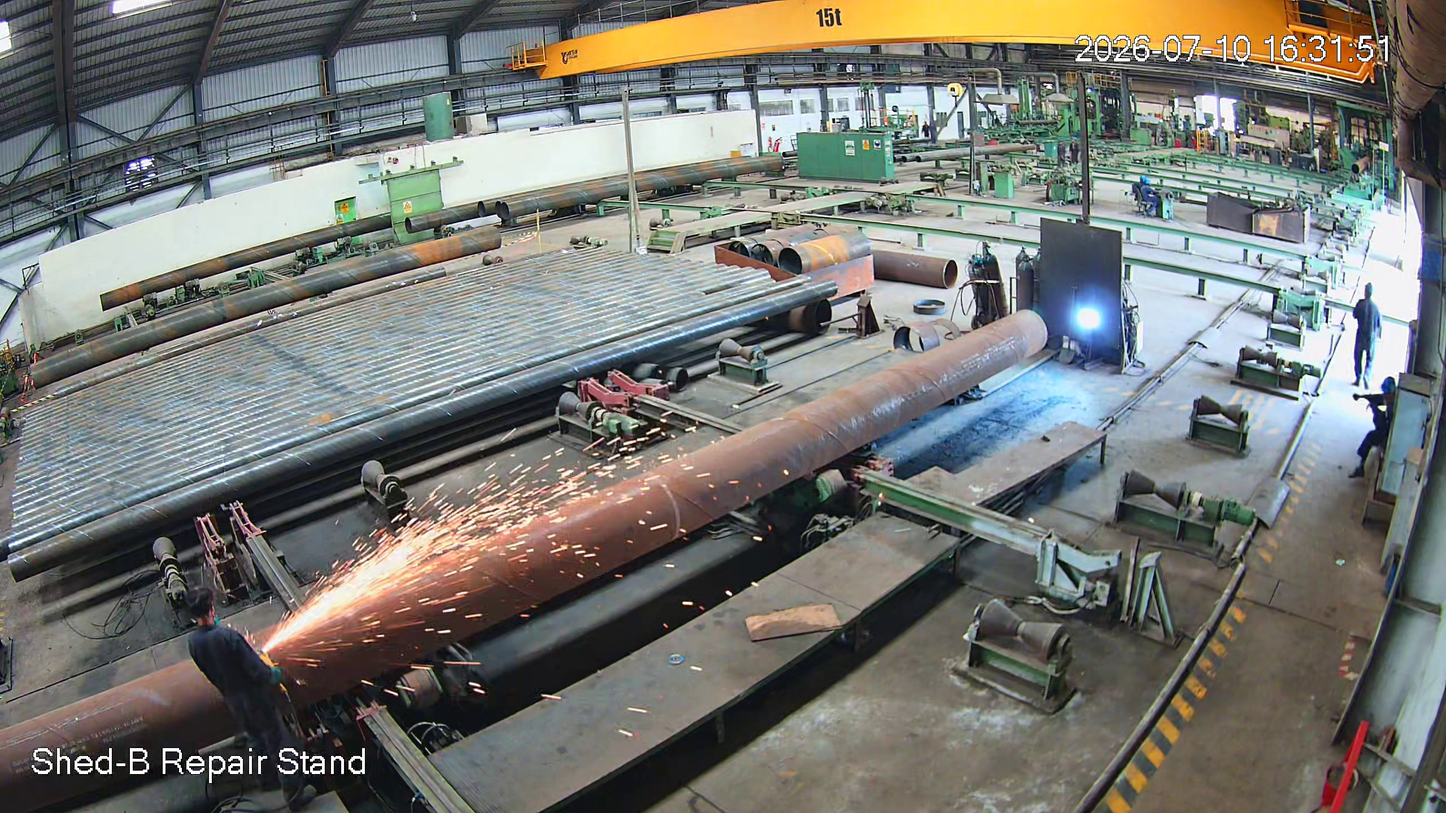Helmet: (176, 582, 233, 646), (1358, 278, 1377, 308)
Person: (181, 588, 325, 813), (1352, 280, 1386, 389)
